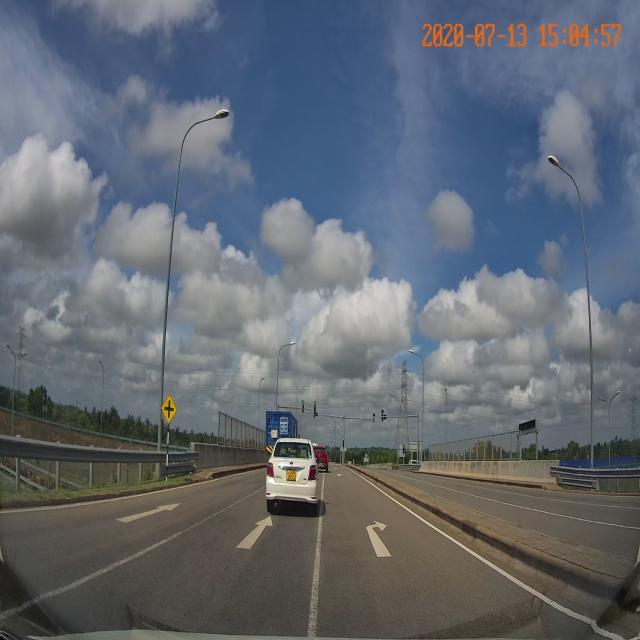forward: (164, 506, 327, 567)
